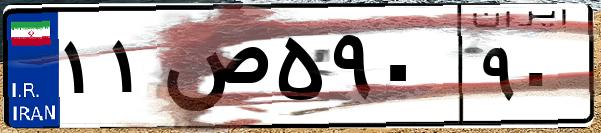0: (385, 28, 445, 110), (525, 38, 570, 115)
1: (57, 26, 110, 100), (110, 28, 158, 98)
5: (270, 28, 330, 110)
9: (330, 28, 385, 110), (475, 38, 525, 113)
ص: (158, 20, 270, 120)
